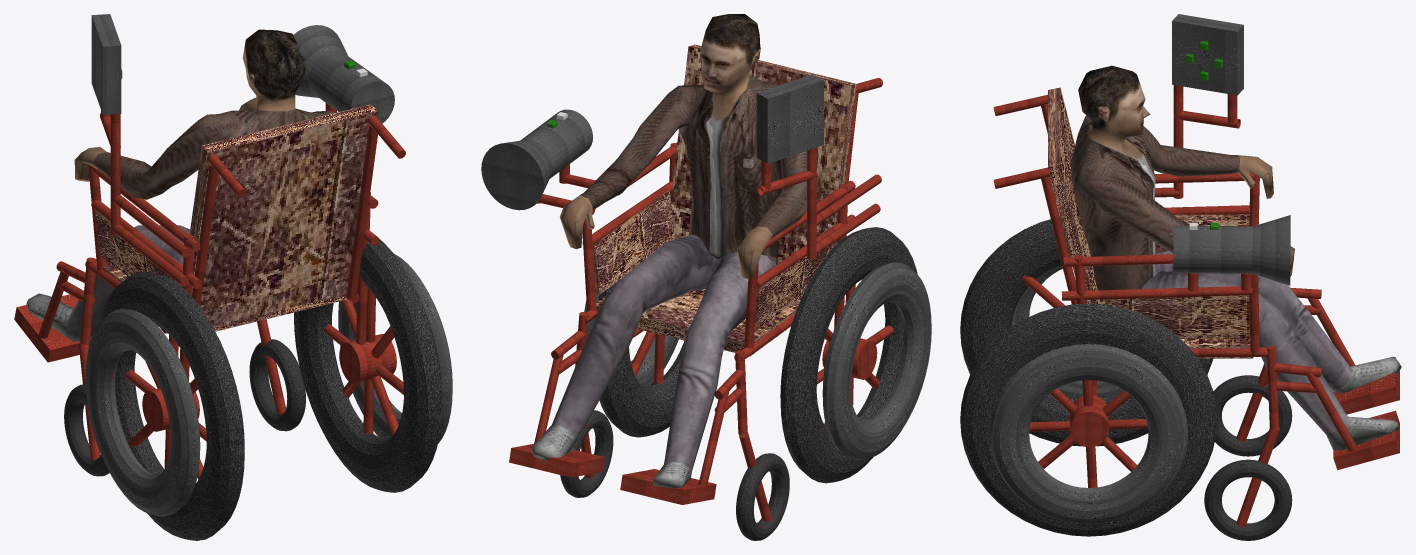
File: clean_кресло 4.2 blend.glb
The picture shows the model from 3 angles, left to right: view 1: azimuth 30°, elevation 25°; view 2: azimuth 150°, elevation 25°; view 3: azimuth 270°, elevation 25°; orthographic projection. The views are drawn at different scales.
Visible parts, largest first — view 1: Character_04; view 2: Character_04; view 3: Character_04.
Boxes of the visible parts, left/top/right/bottom form: Character_04: left=14, top=14, right=452, bottom=540; Character_04: left=481, top=14, right=931, bottom=540; Character_04: left=960, top=14, right=1401, bottom=540.
Bounding box in the file's own units: 5.54 × 7.78 × 7.12.
Materials: 21 (21 with a texture image).
